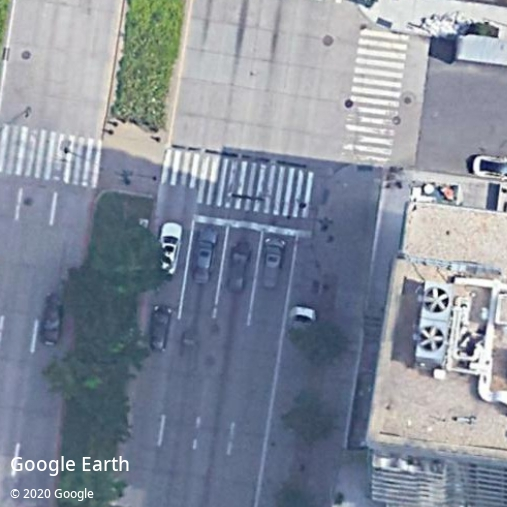Vent: (424, 287, 449, 313), (419, 326, 444, 352)
